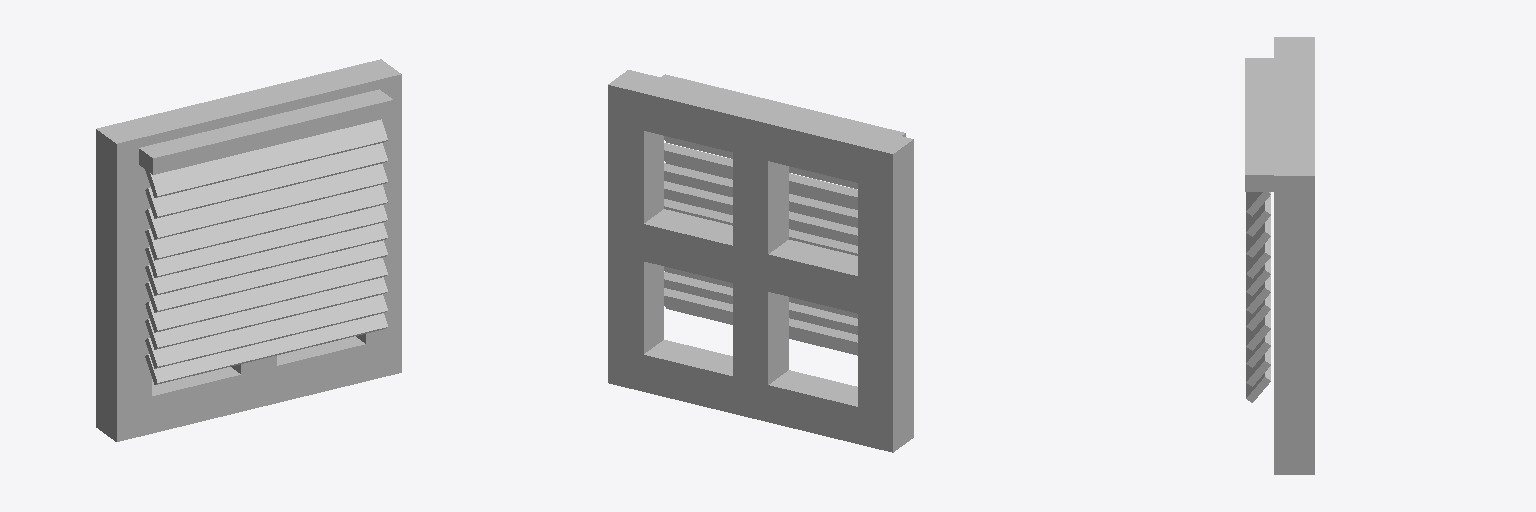
Rendered from Window.obj.
3 renders of one model, left to right at view 1: azimuth 30°, elevation 25°; view 2: azimuth 150°, elevation 25°; view 3: azimuth 270°, elevation 25°, orthographic.
Visible parts, largest first — view 1: Plane, Cube_Cube.001, Plane.001, Plane.003, Plane.002, Plane.004, Plane.008, Plane.010, Plane.006, Plane.005, Plane.009, Plane.007 (+1 smaller); view 2: Plane, Plane.011, Plane.003, Plane.005, Plane.004, Plane.010, Plane.006, Cube_Cube.001, Plane.002, Plane.009; view 3: Plane, Cube_Cube.001, Plane.003.
Boxes of the visible parts, x1,y1,x2,y2 form: Plane: [96, 59, 401, 441]; Cube_Cube.001: [139, 89, 393, 174]; Plane.001: [145, 119, 387, 197]; Plane.003: [145, 164, 387, 239]; Plane.002: [145, 143, 387, 218]; Plane.004: [145, 184, 387, 260]; Plane.008: [145, 258, 387, 332]; Plane.010: [145, 294, 387, 368]; Plane.006: [145, 223, 387, 295]; Plane.005: [145, 205, 387, 277]; Plane.009: [145, 277, 387, 349]; Plane.007: [145, 240, 387, 312]; Plane: [608, 70, 913, 452]; Plane.011: [664, 288, 857, 355]; Plane.003: [664, 143, 857, 209]; Plane.005: [664, 181, 857, 245]; Plane.004: [664, 163, 857, 227]; Plane.010: [664, 272, 857, 334]; Plane.006: [664, 199, 857, 255]; Cube_Cube.001: [661, 74, 905, 136]; Plane.002: [664, 136, 857, 188]; Plane.009: [664, 266, 857, 318]; Plane: [1274, 37, 1314, 474]; Cube_Cube.001: [1245, 58, 1273, 191]; Plane.003: [1246, 216, 1270, 257].
Size of the model in its own units: 2 by 2 by 0.4239.